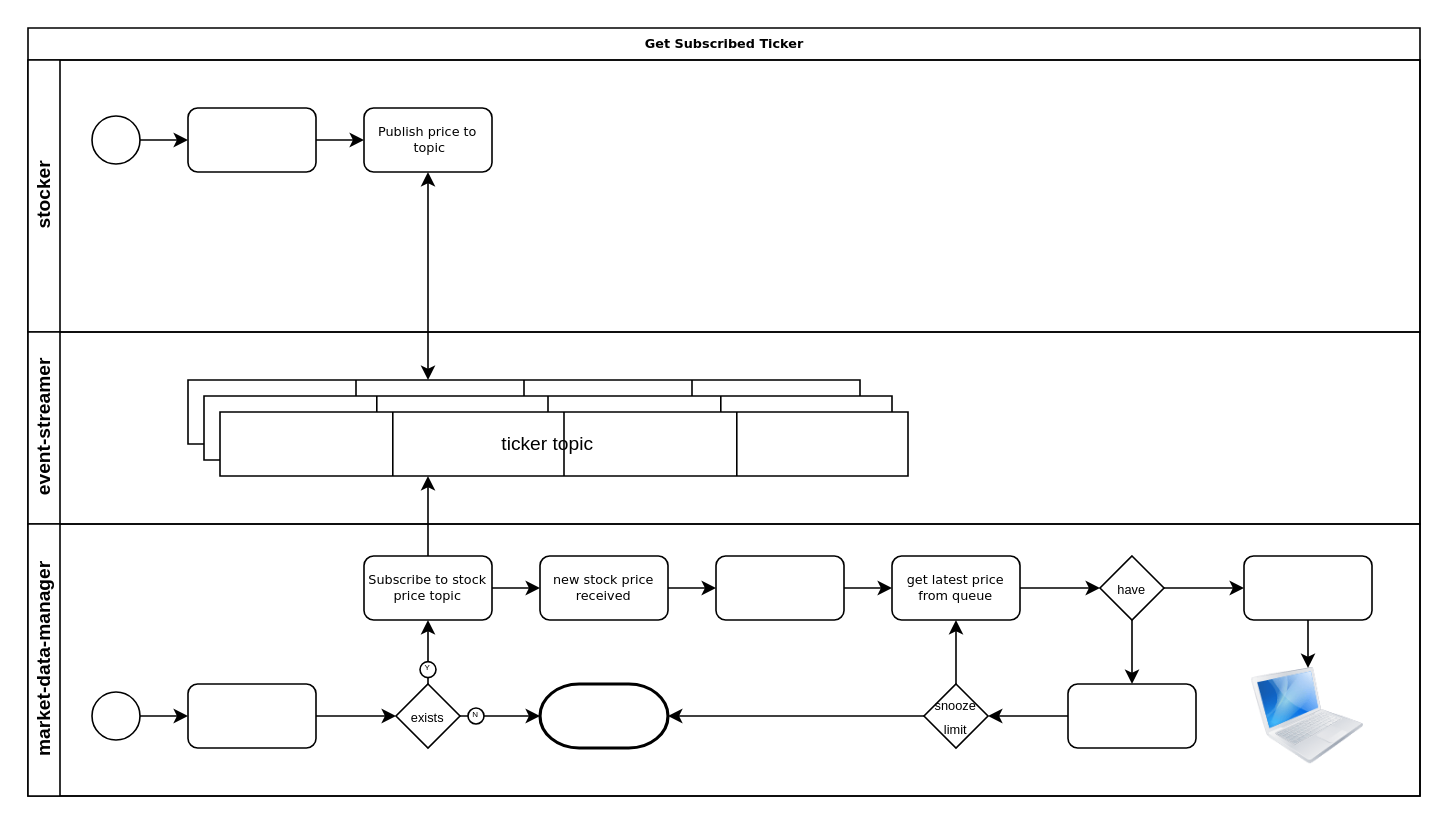
Image size: 1448x824. Some labels were removed from this diagram. The shapes that lost their labels are listed below. From the top down, each one's centre as x and y in pixels, then its label:
pixel 251 139: Generate fabricated stock prices
pixel 779 587: add price to in-memory queue
pixel 1307 587: show to UI
pixel 251 715: Get Subscription setup from config
pixel 603 715: End
pixel 1131 715: sleep
